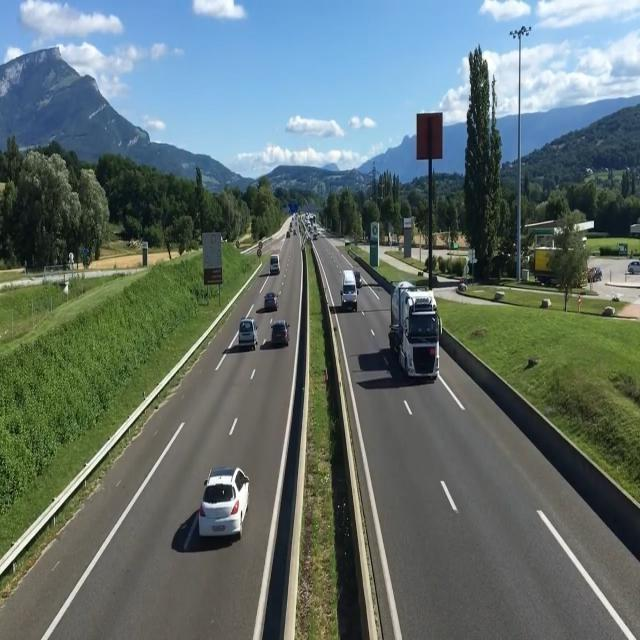Car: (198, 465, 251, 539), (238, 317, 259, 351), (270, 320, 291, 346), (263, 292, 279, 311)
Truck: (387, 280, 442, 381)
Van: (339, 270, 359, 310), (268, 254, 281, 274)
